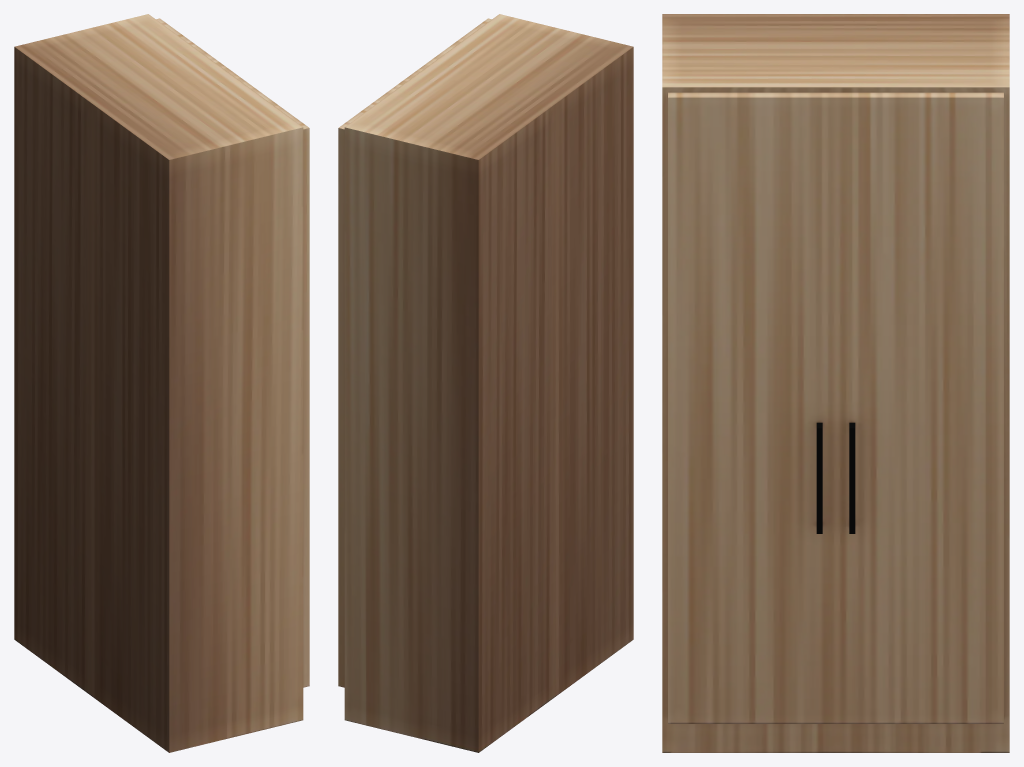
The model's file is wardrobe01.glb.
3 views of the same model, side by side, from view 1: azimuth 30°, elevation 25°; view 2: azimuth 150°, elevation 25°; view 3: azimuth 270°, elevation 25° (orthographic). The views are drawn at different scales.
Parts seen in each view (by area): view 1: wardrobe01; view 2: wardrobe01; view 3: wardrobe01.
Boxes of the visible parts, x1,y1,x2,y2 form: wardrobe01: (14, 14, 309, 752); wardrobe01: (338, 14, 633, 752); wardrobe01: (662, 14, 1009, 752).
Bounding box in the file's own units: 0.4469 × 1.63 × 0.7732.
1 material, 1 textured.
